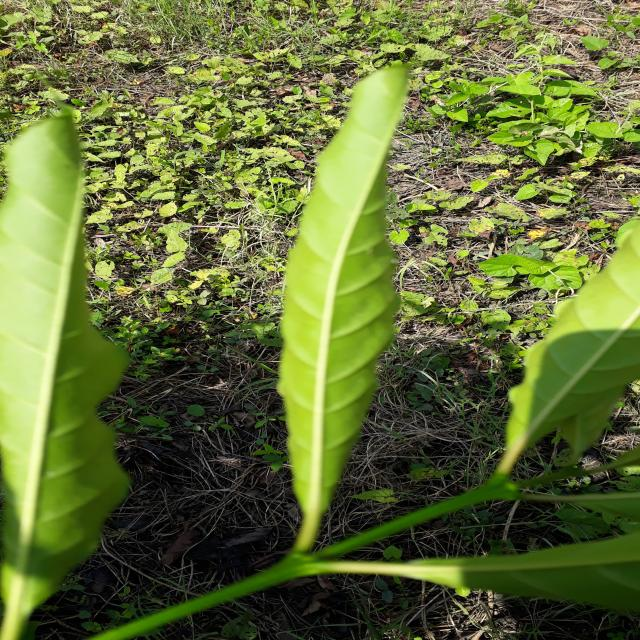Sanas: (276, 62, 412, 556)
